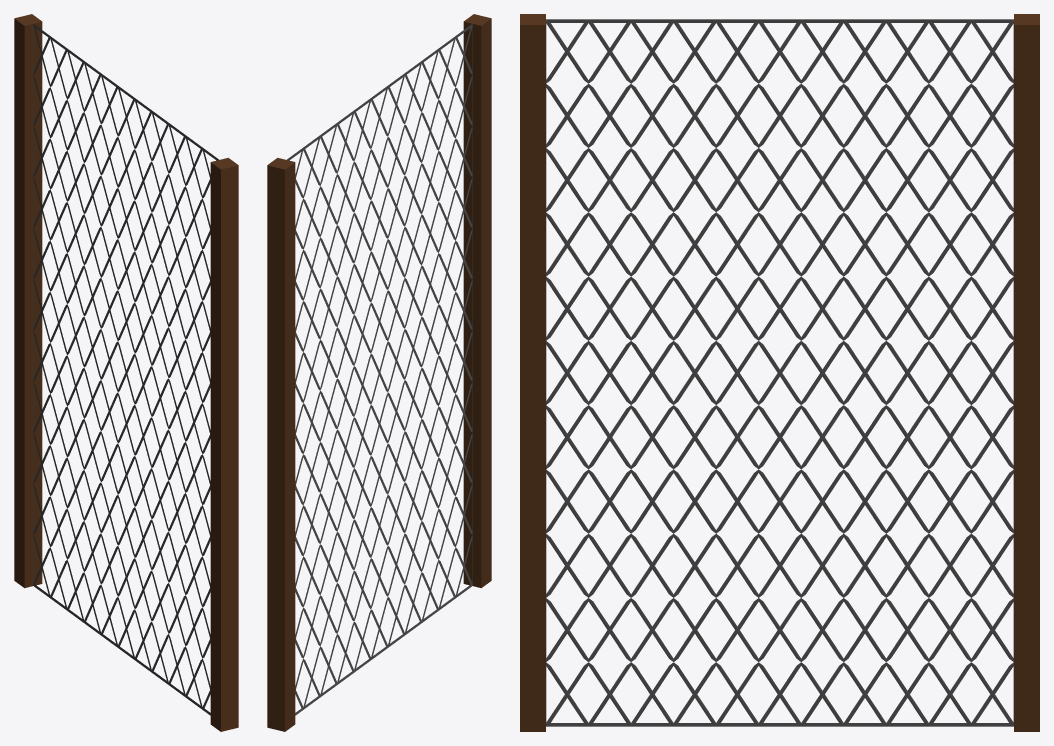
File: Fence.fbx
3 views of the same model, side by side, from view 1: azimuth 30°, elevation 25°; view 2: azimuth 150°, elevation 25°; view 3: azimuth 270°, elevation 25° (orthographic). The views are drawn at different scales.
Visible parts, largest first — view 1: Fence.001; view 2: Fence.001; view 3: Fence.001.
Part boxes in pixels (<box>): Fence.001: <box>14,14,238,731</box>; Fence.001: <box>267,14,491,731</box>; Fence.001: <box>520,14,1039,731</box>.
Bounding box in the file's own units: 10 × 300 × 200.
